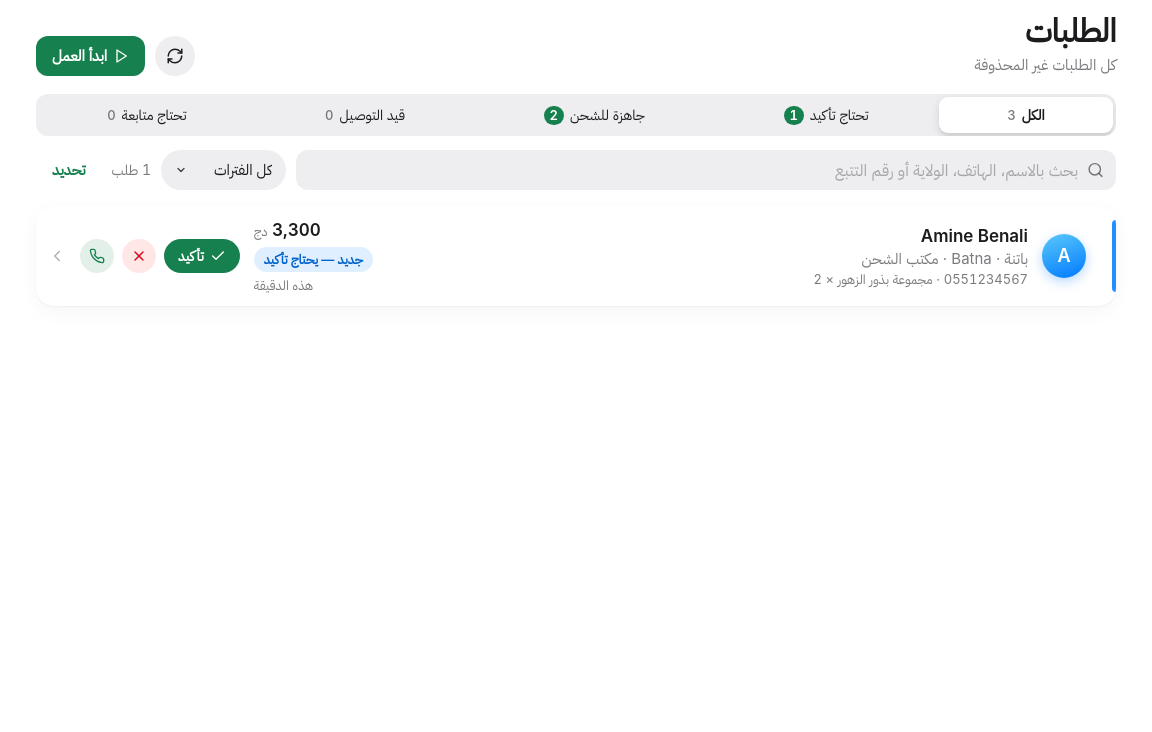
shows selection circles only in select mode and the action bar only with a selection
The image size is (1152, 732).
Click the button "تحديد" at x=69, y=170, box [36,150,102,190]
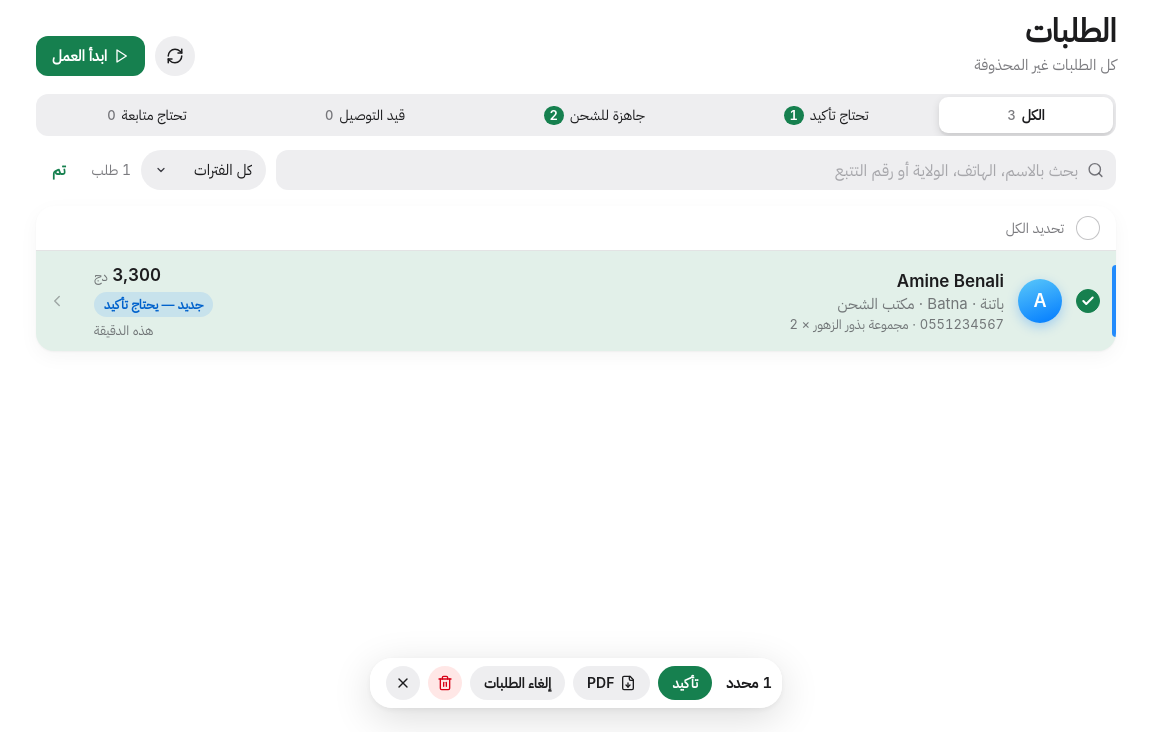
Expected: the element with class "selecting" is shown, [36,251,1116,351]
Now the element with class "ops-bulk" shows "1 محدد", box [370,658,782,708]
